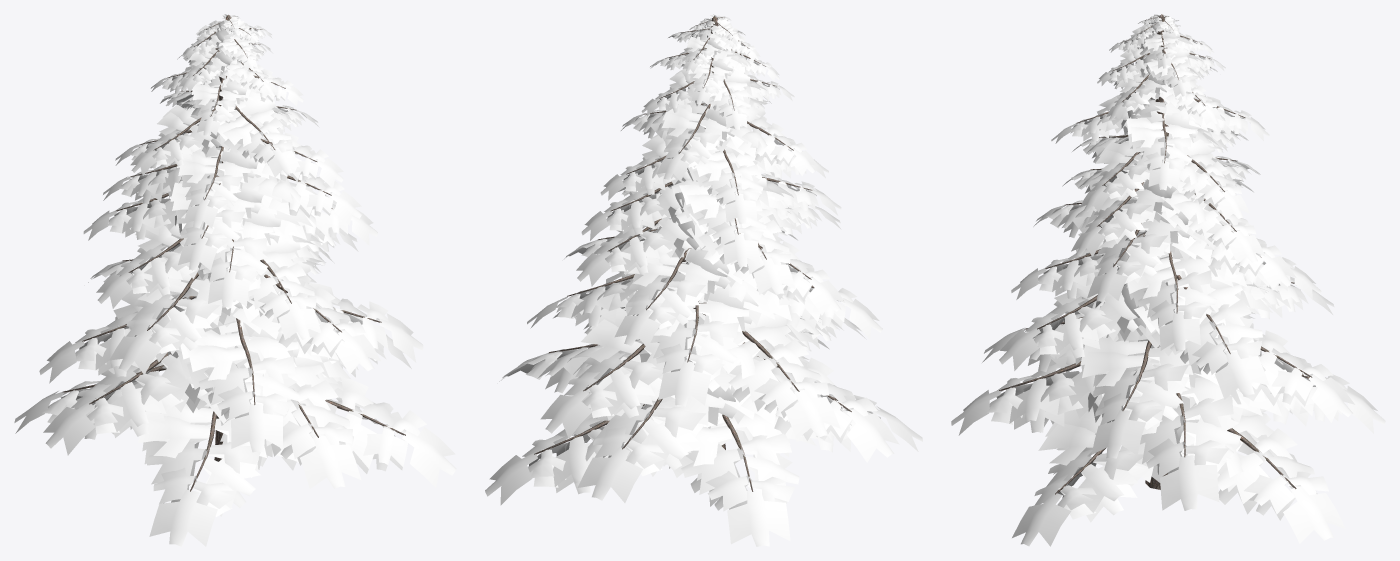
File: tree2.glb
The picture shows the model from 3 angles, left to right: view 1: azimuth 30°, elevation 25°; view 2: azimuth 150°, elevation 25°; view 3: azimuth 270°, elevation 25°; orthographic projection.
Visible parts, largest first — view 1: pine_tree; view 2: pine_tree; view 3: pine_tree.
Part boxes in pixels (box(x1,y1,x2,y2)): pine_tree: box(14, 14, 456, 546); pine_tree: box(485, 14, 922, 546); pine_tree: box(951, 14, 1385, 546).
Size of the model in its own units: 4.68 by 5.56 by 4.67.
Materials: 3 (1 with a texture image).
